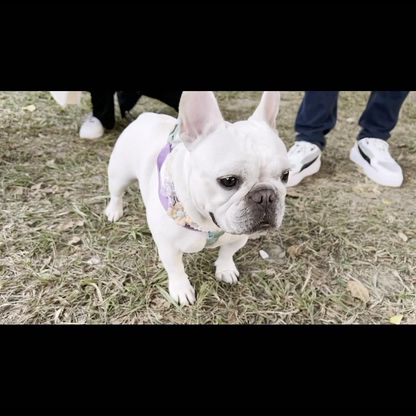bulldog: (101, 93, 293, 311)
